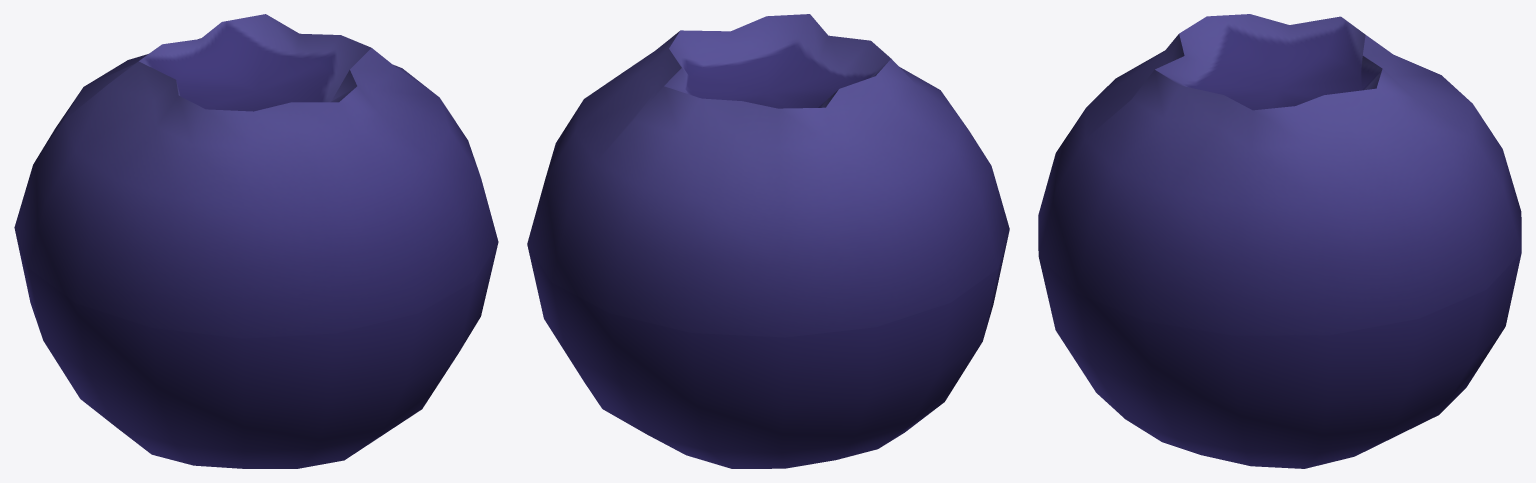
The model's file is Blueberry.fbx.
The picture shows the model from 3 angles, left to right: view 1: azimuth 30°, elevation 25°; view 2: azimuth 150°, elevation 25°; view 3: azimuth 270°, elevation 25°; orthographic projection.
Parts seen in each view (by area): view 1: Blueberry; view 2: Blueberry; view 3: Blueberry.
Part boxes in pixels (box(x1,y1,x2,y2)): Blueberry: box(14, 14, 498, 468); Blueberry: box(527, 14, 1009, 468); Blueberry: box(1038, 14, 1521, 468).
Bounding box in the file's own units: 0.1007 × 0.1017 × 0.0909.
